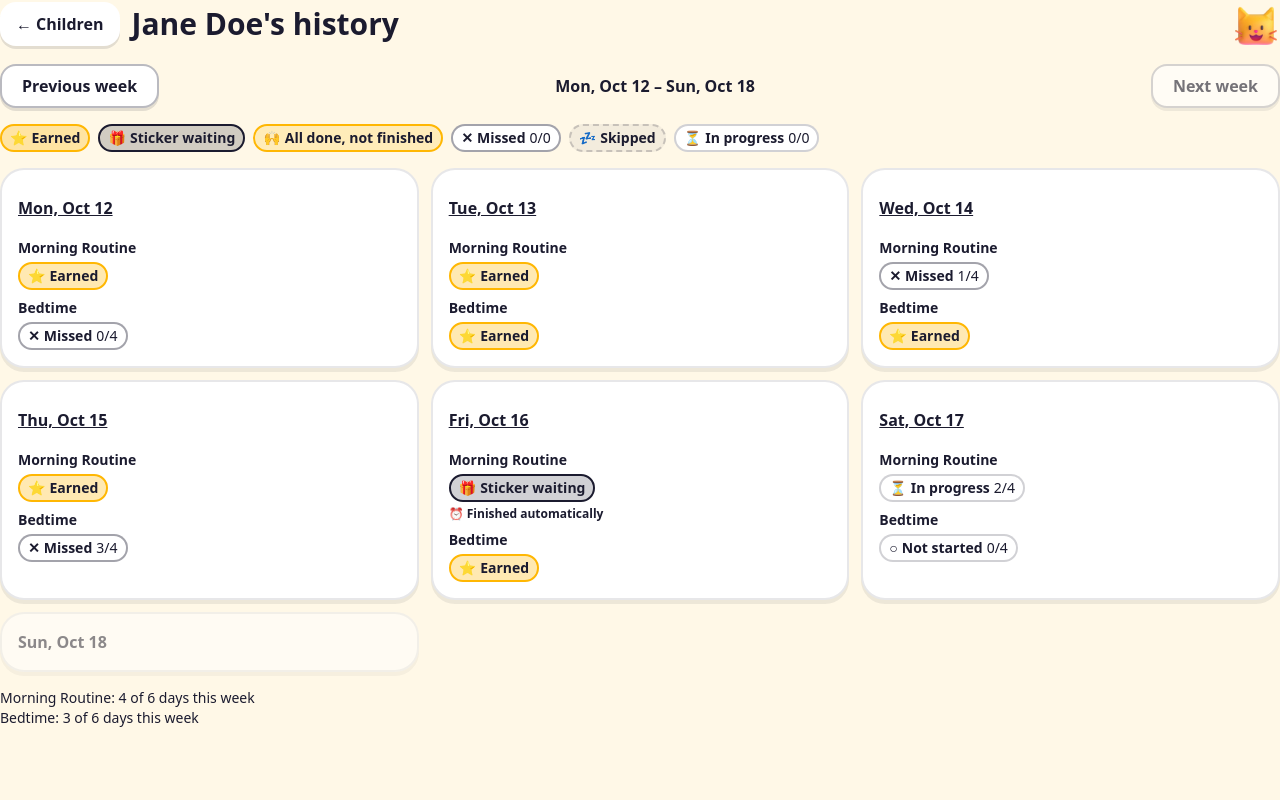
it: HistoryScreen › marks a sticker the day's end earned as finished automatically, in the calendar and the review
Check: the element with test id "auto-finished-mark" is shown, box [449,506,604,522]
Check: the heading "Jane Doe's history" is shown, box [132,3,399,44]
Click the button "Fri, Oct 16". click: (489, 420)
box: [449,398,831,442]
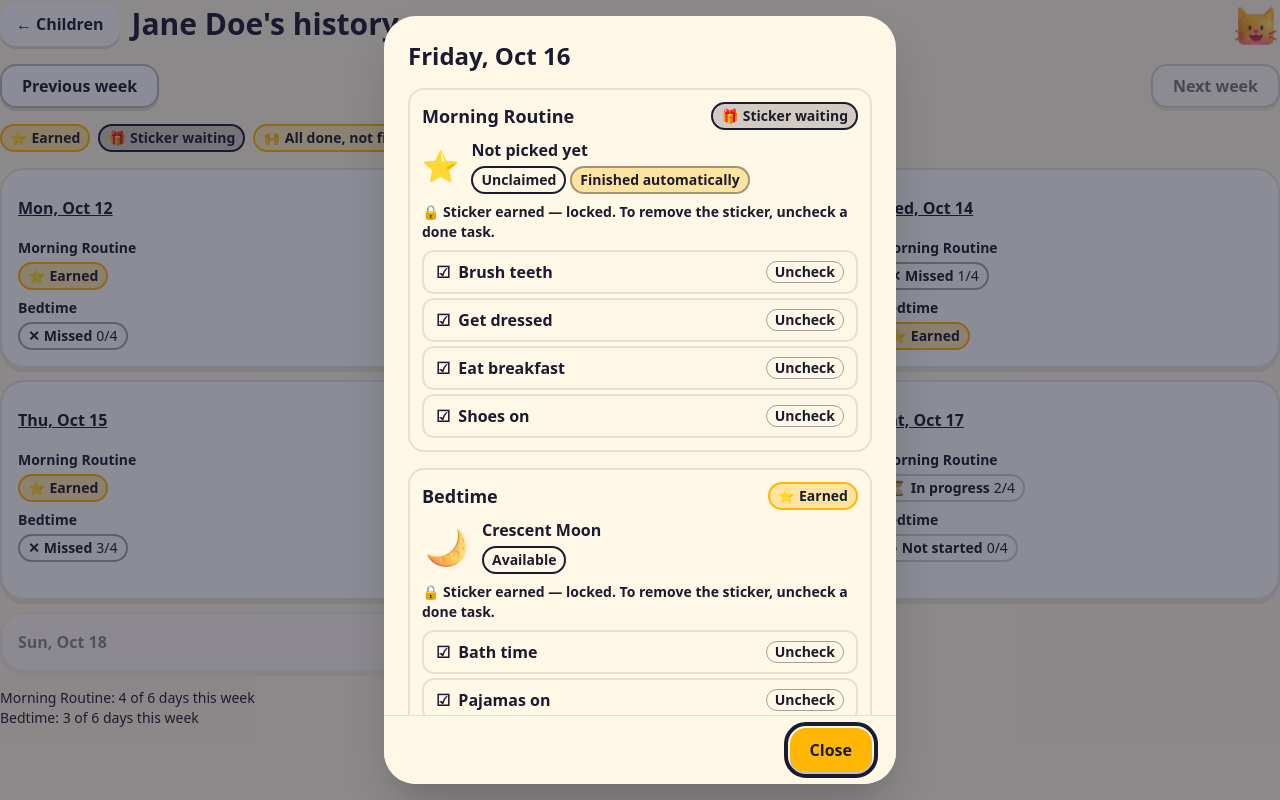
Check: the text with test id "sticker-auto-finished" reads "Finished automatically", box [580,170,740,189]
Check: the text with test id "sticker-status" reads "Unclaimed", box [481,170,556,189]
